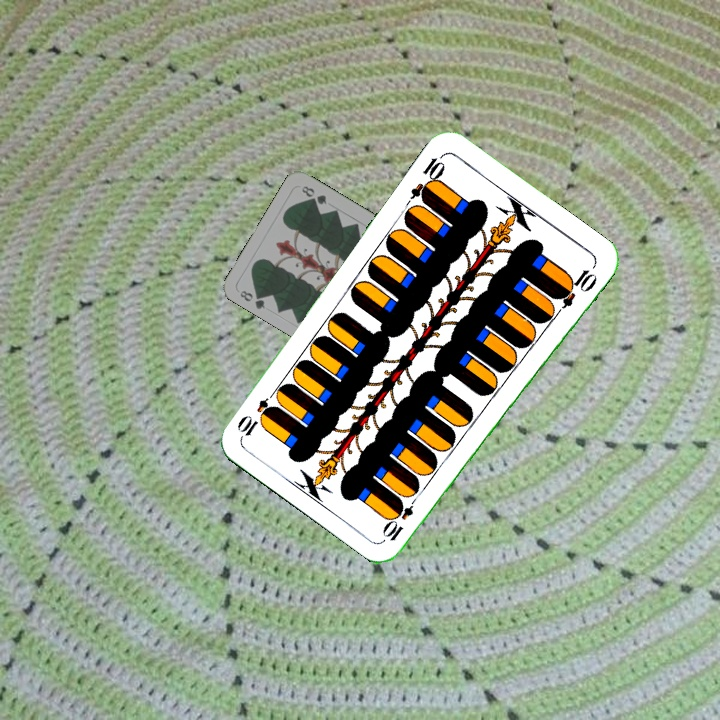E10: (406, 150, 448, 205), (382, 490, 422, 544)
G8: (236, 286, 268, 312)
